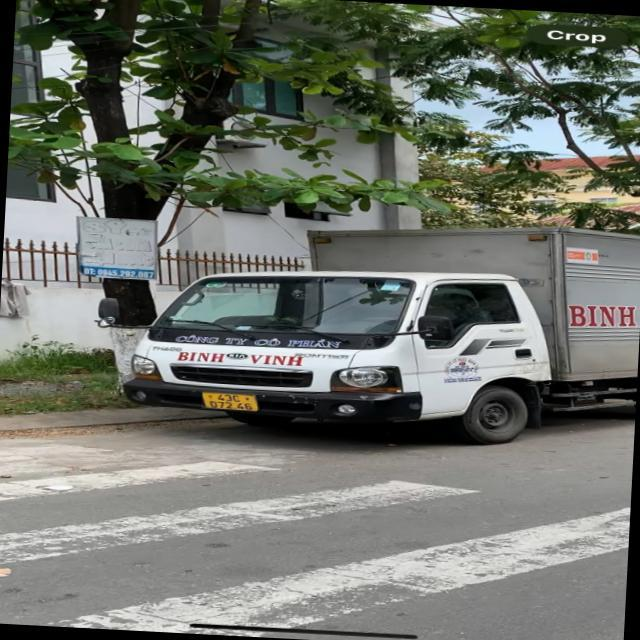car: (116, 213, 640, 446)
plate: (195, 385, 265, 418)
